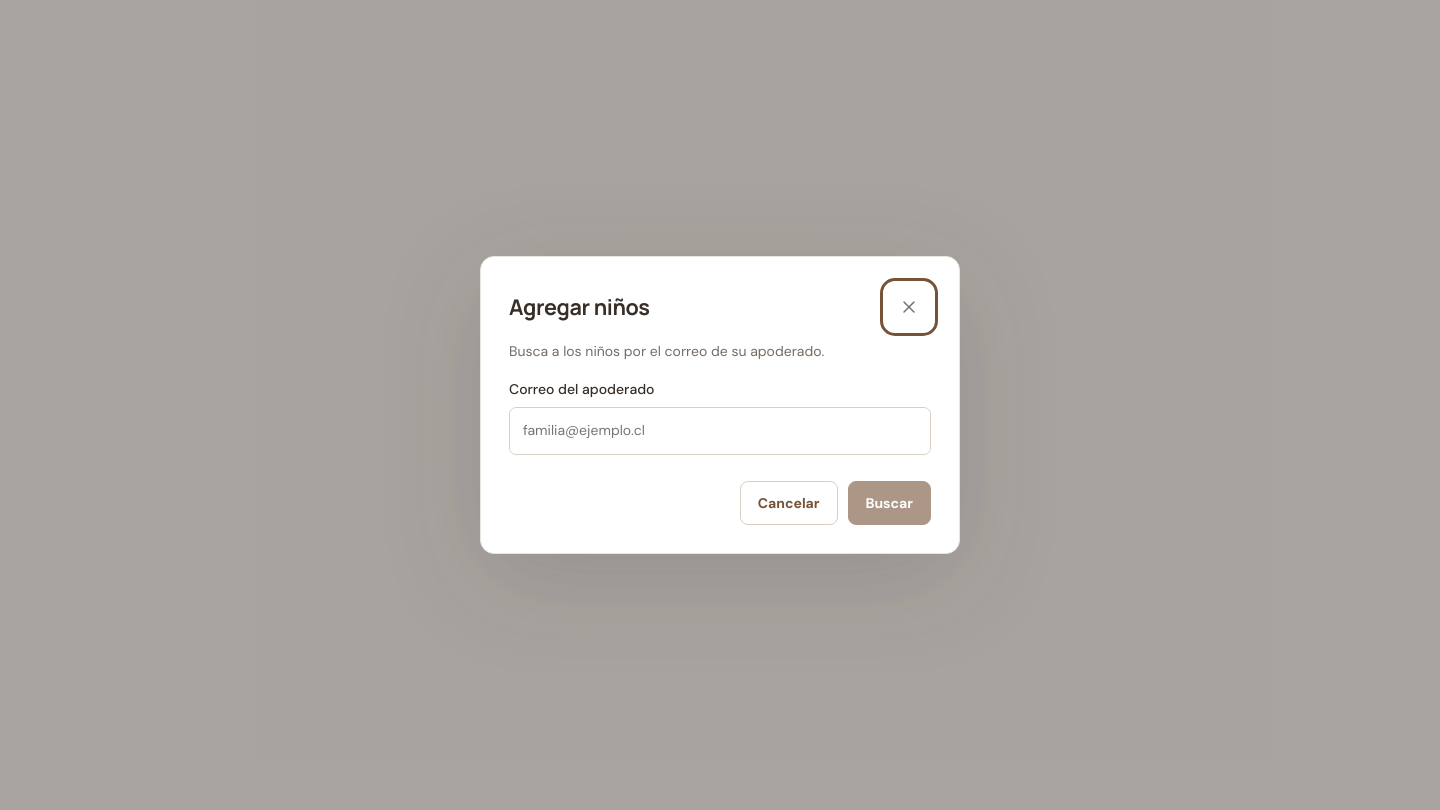
Test: agregar por correo con el adaptador real › muestra el detalle del error 404 sin reemplazarlo por datos ficticios
This screenshot has width=1440, height=810.
Type "FAMILIA@example.com" into the field labelled "Correo del apoderado" at (720, 431), box [509,407,931,455]
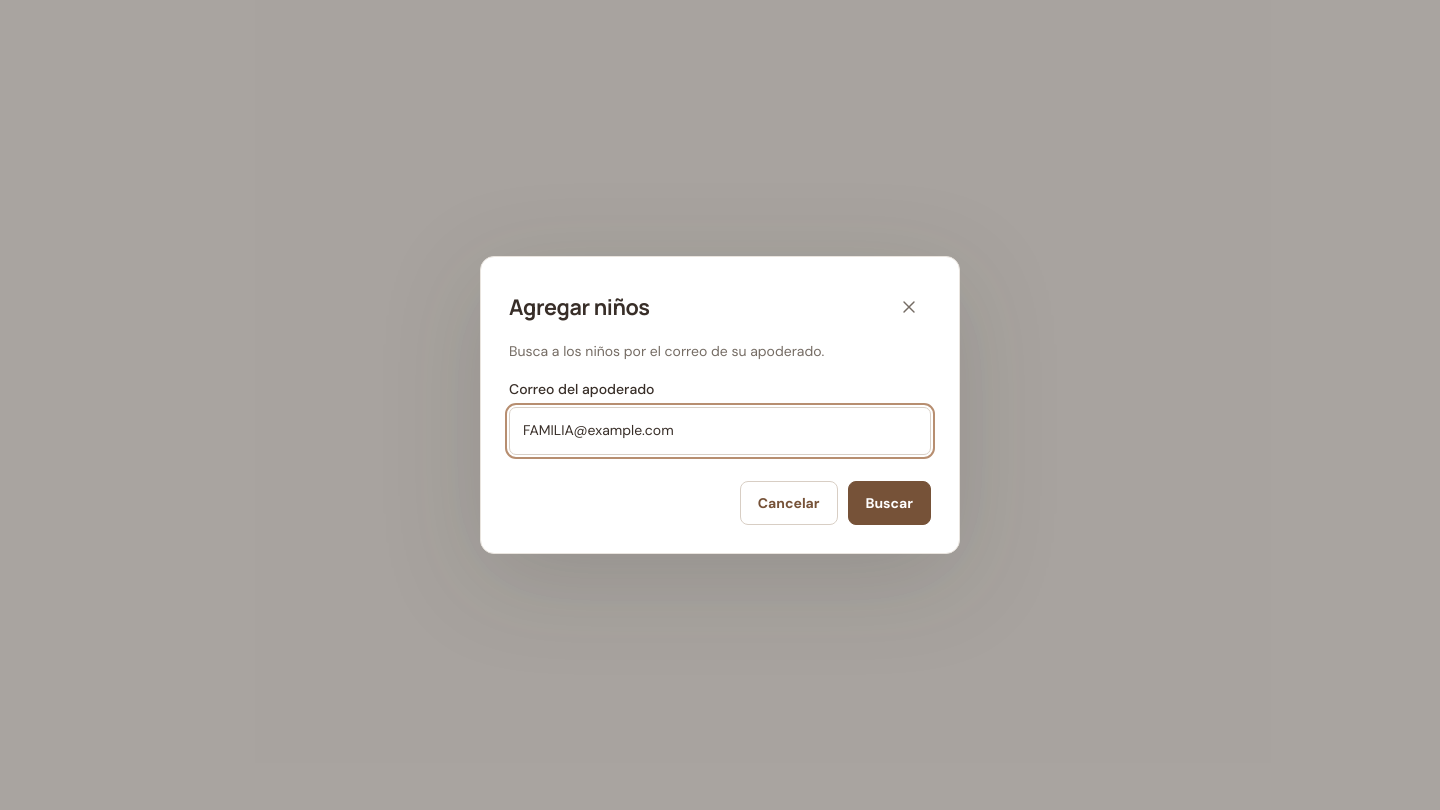
Click the button "Buscar" at (889, 503), box [848,481,931,525]
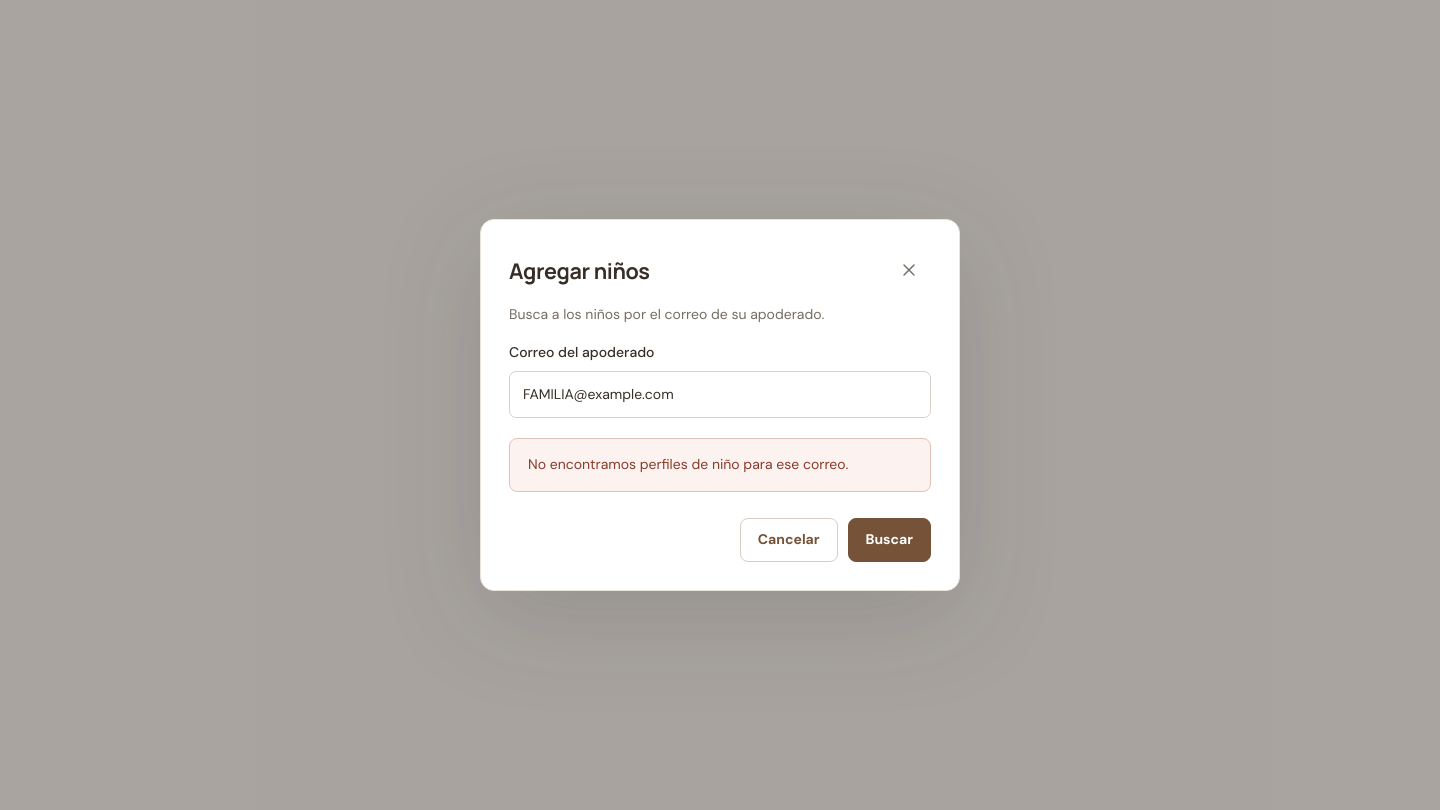
Expected: the message reads "No encontramos perfiles de niño para ese correo.", [528,455,848,473]
